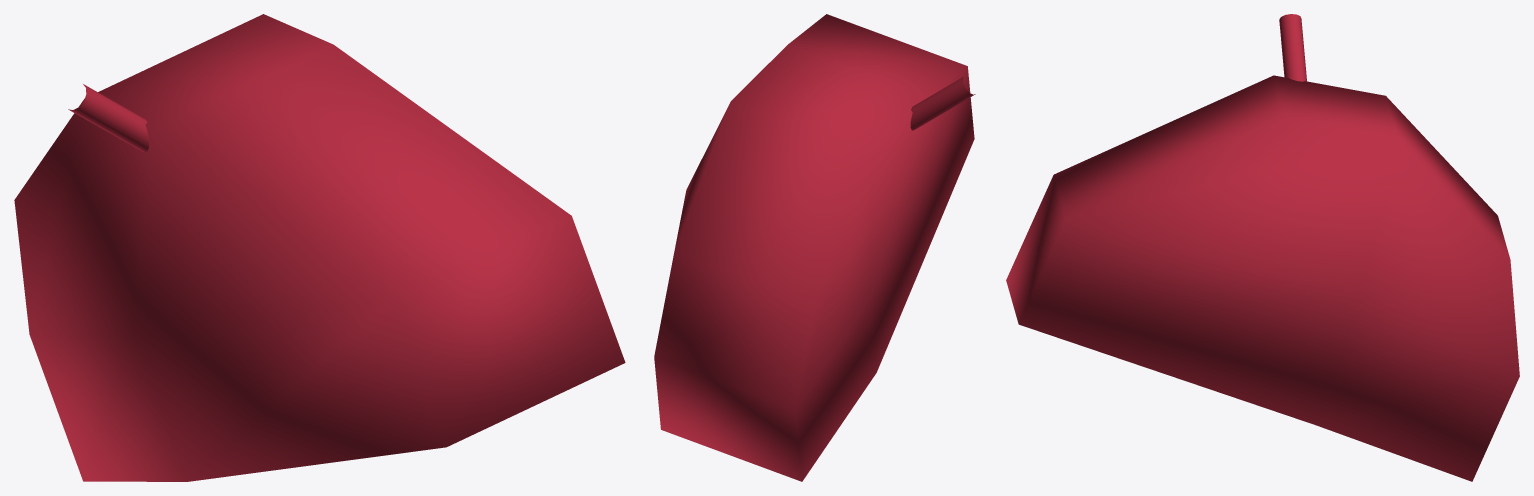
Rendered from cavernous-sinus-l.glb.
3 views of the same model, side by side, from view 1: azimuth 30°, elevation 25°; view 2: azimuth 150°, elevation 25°; view 3: azimuth 270°, elevation 25° (orthographic). The views are drawn at different scales.
Visible parts, largest first — view 1: Cavernous sinus.l; view 2: Cavernous sinus.l; view 3: Cavernous sinus.l.
Boxes of the visible parts, x1=… form: Cavernous sinus.l: x1=14, y1=14, x2=625, y2=481; Cavernous sinus.l: x1=654, y1=14, x2=975, y2=481; Cavernous sinus.l: x1=1006, y1=14, x2=1519, y2=481.
Size of the model in its own units: 0.0147 by 0.0189 by 0.023.
